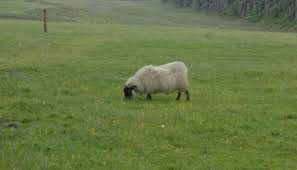sheep: (126, 62, 191, 106)
